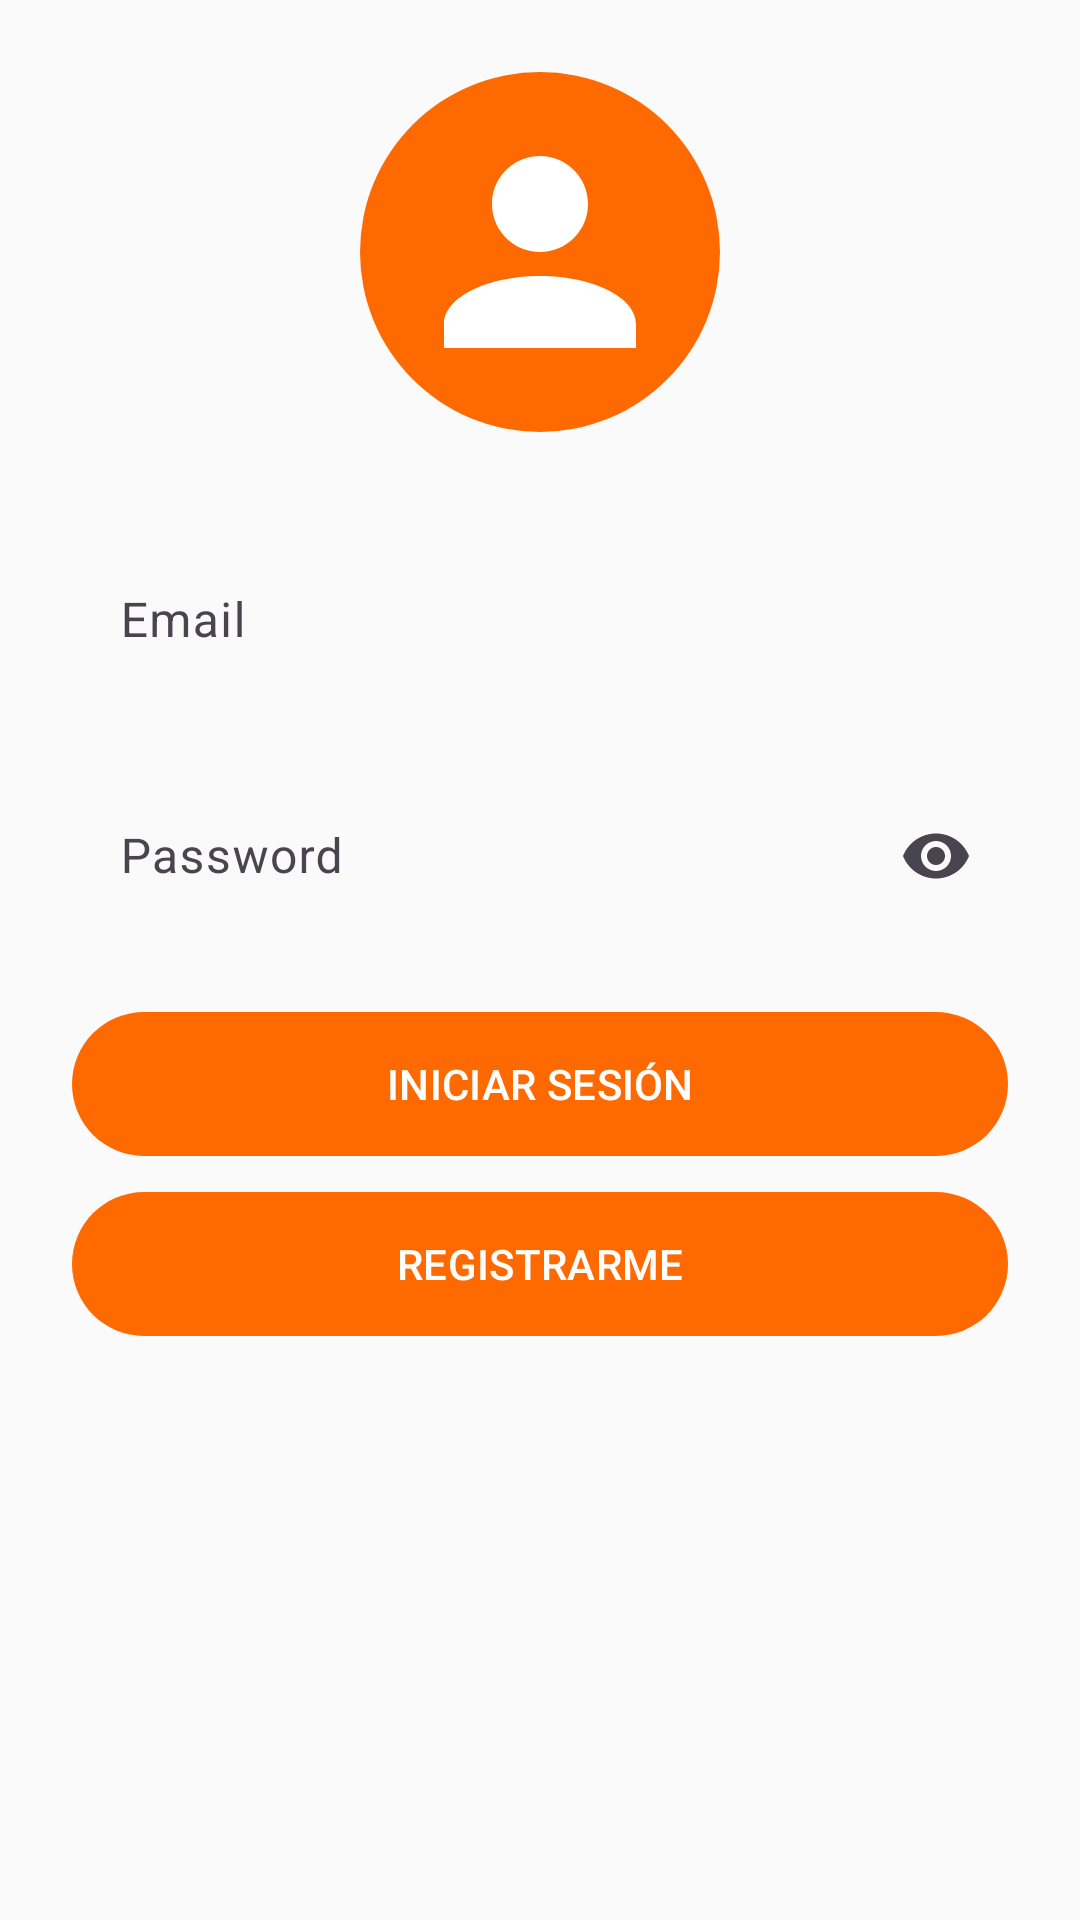

Where to tap for icons on this 1080*1920 app screen, as (x=x, y=y):
Login: (x=540, y=252)
